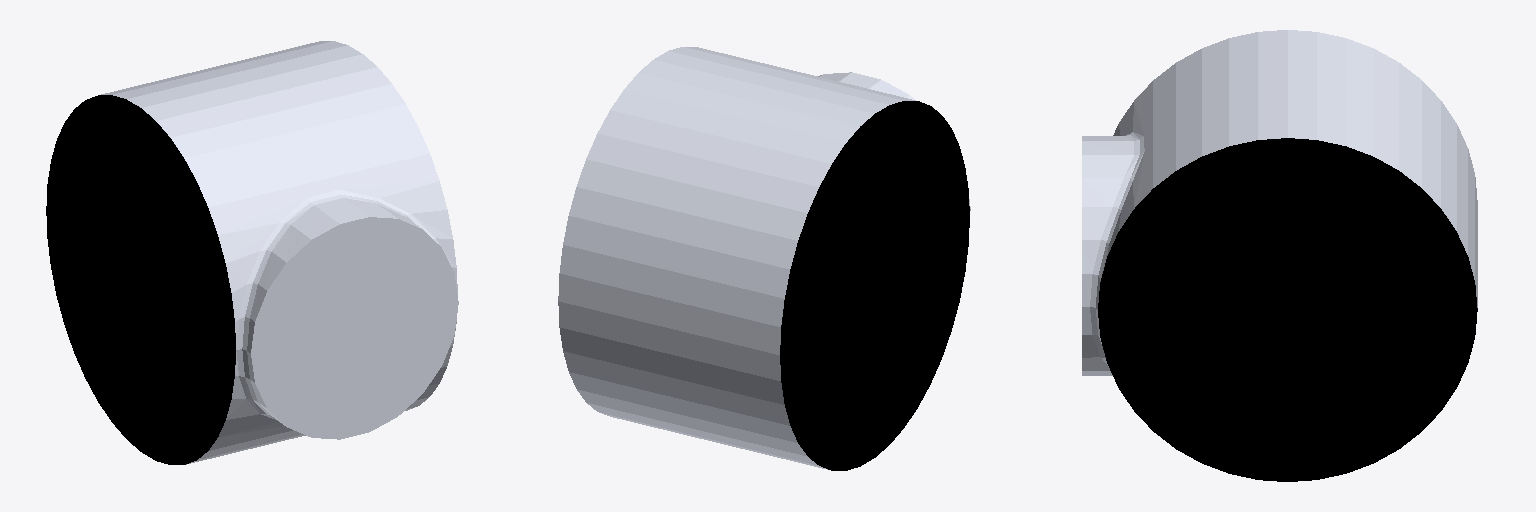
3 views of the same model, side by side, from view 1: azimuth 30°, elevation 25°; view 2: azimuth 150°, elevation 25°; view 3: azimuth 270°, elevation 25° (orthographic).
Visible parts, largest first — view 1: Shoulder; view 2: Shoulder; view 3: Shoulder.
Boxes of the visible parts, box(x1,y1,x2,y2) form: Shoulder: box(46, 41, 458, 464); Shoulder: box(558, 47, 970, 470); Shoulder: box(1082, 30, 1477, 481).
Bounding box in the file's own units: 0.075 × 0.1112 × 0.1158.
Materials: 1 (1 with a texture image).